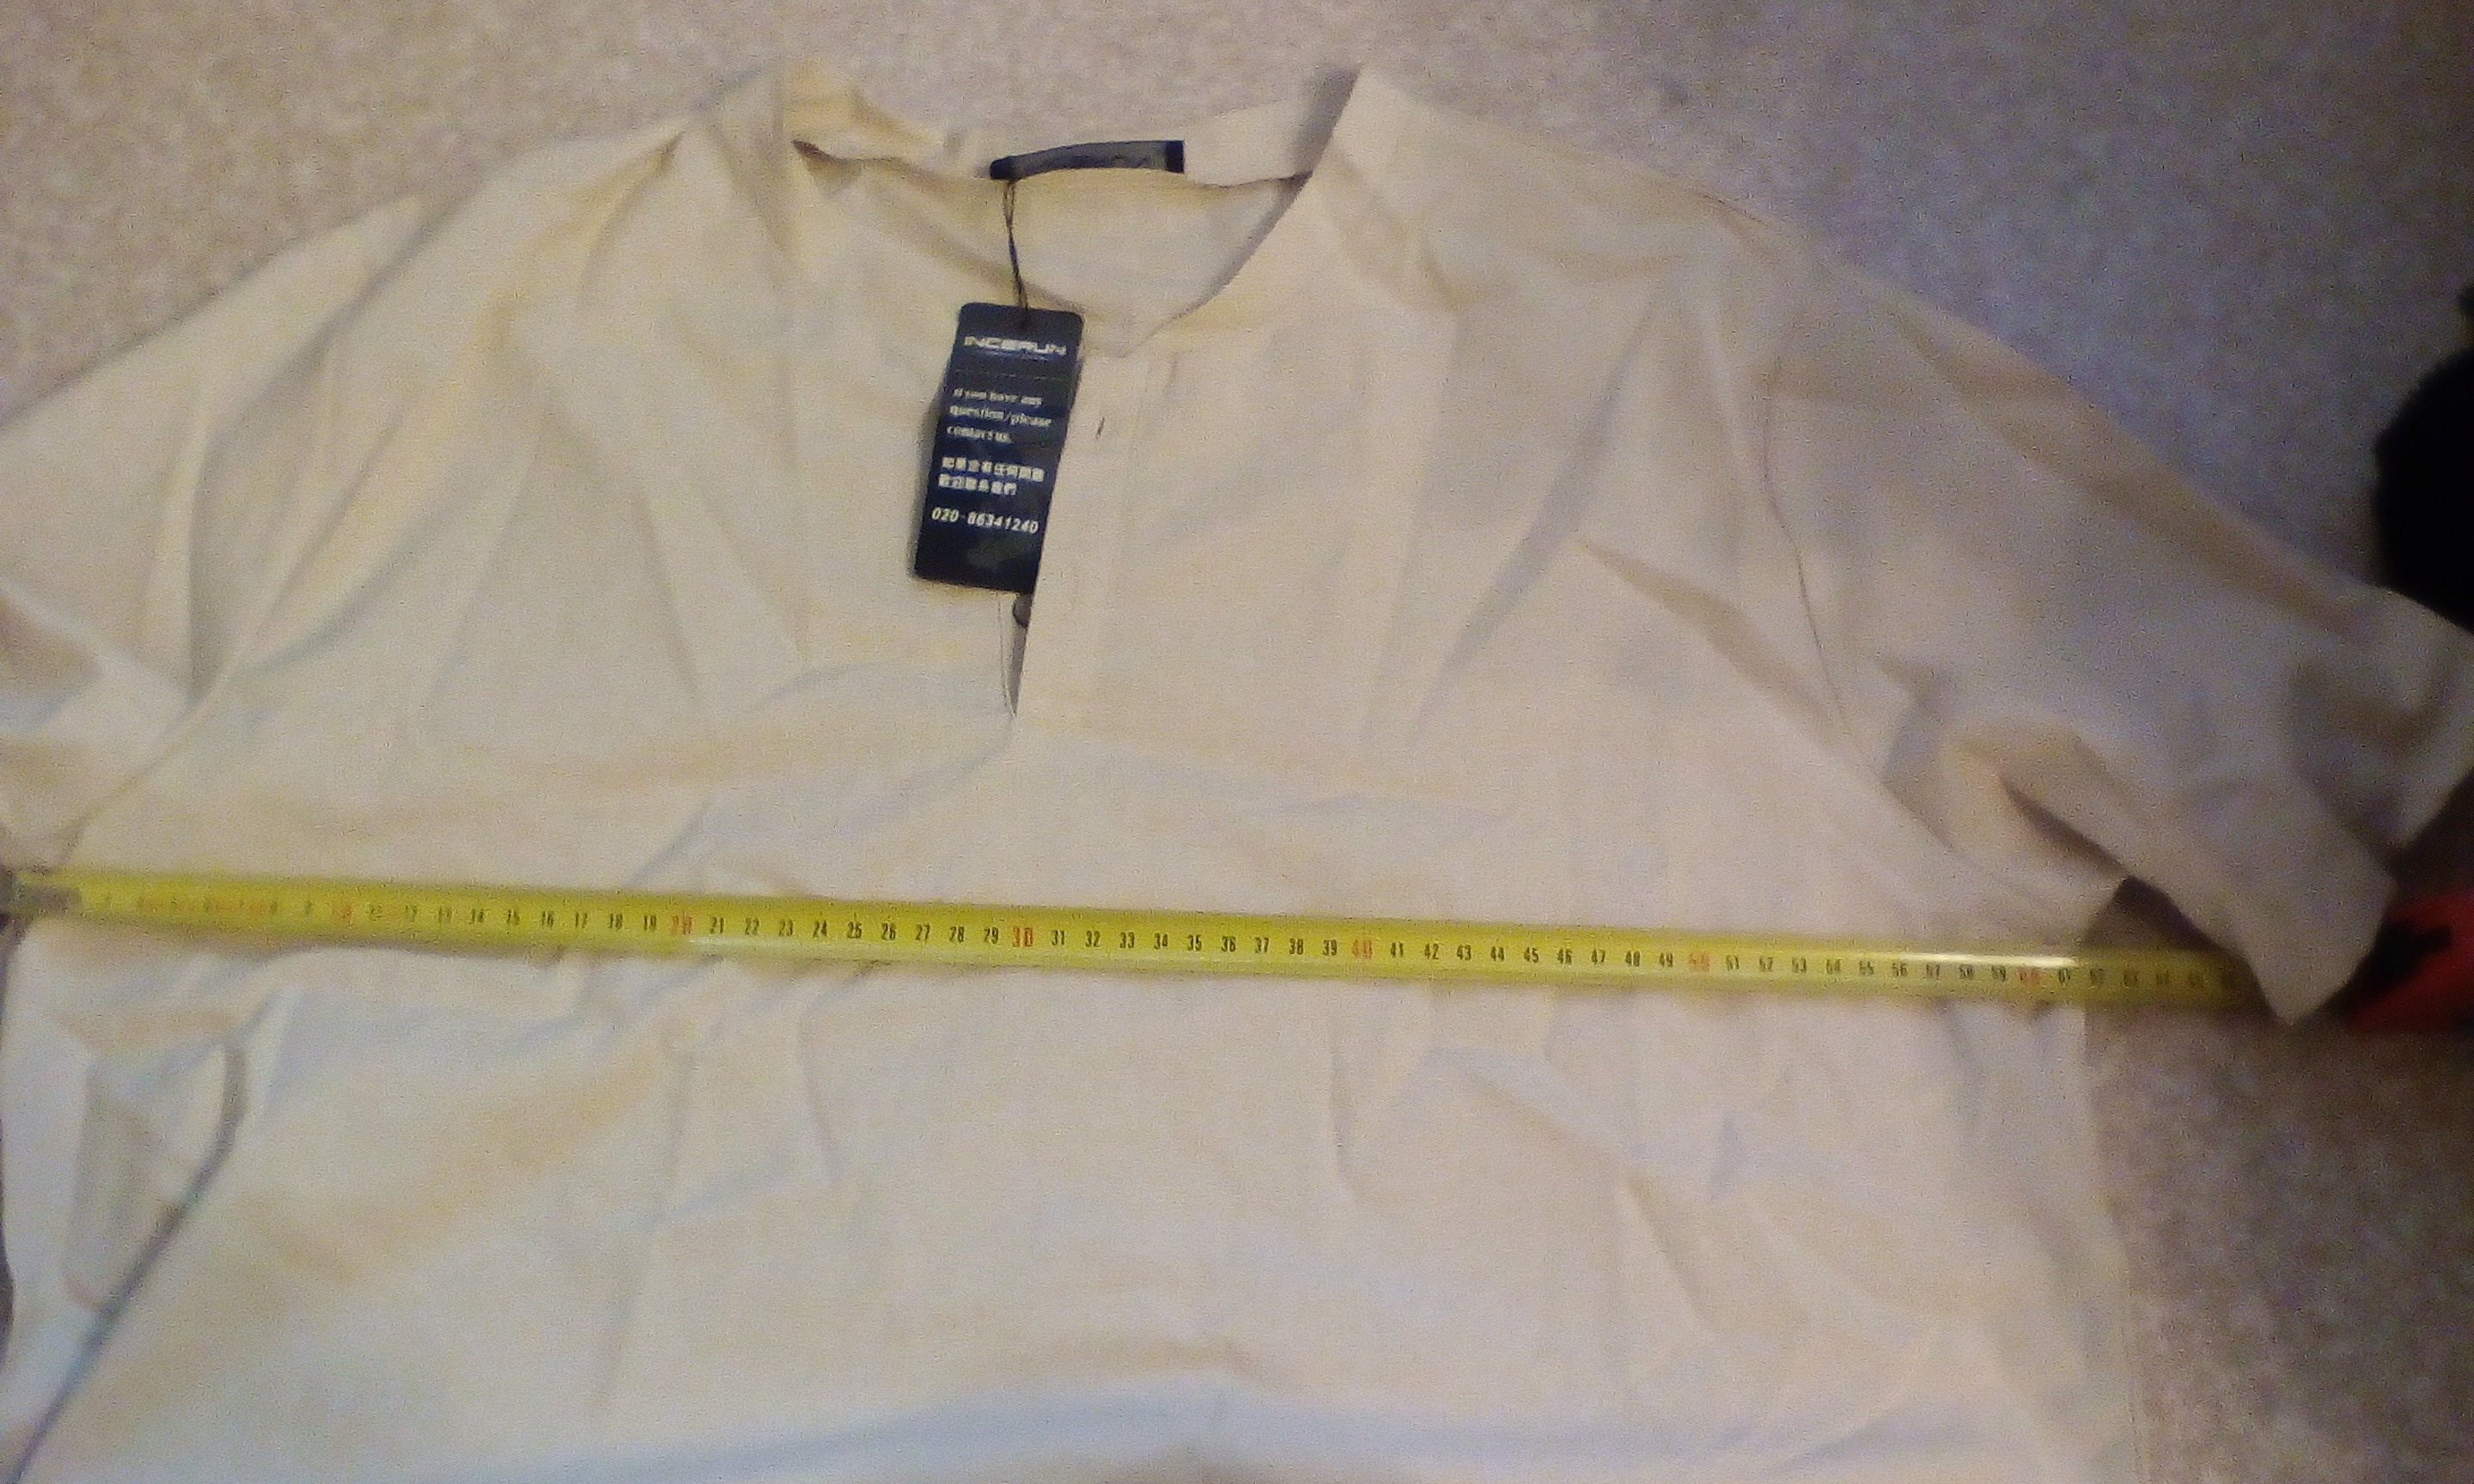shirts: (11, 87, 2474, 1472)
